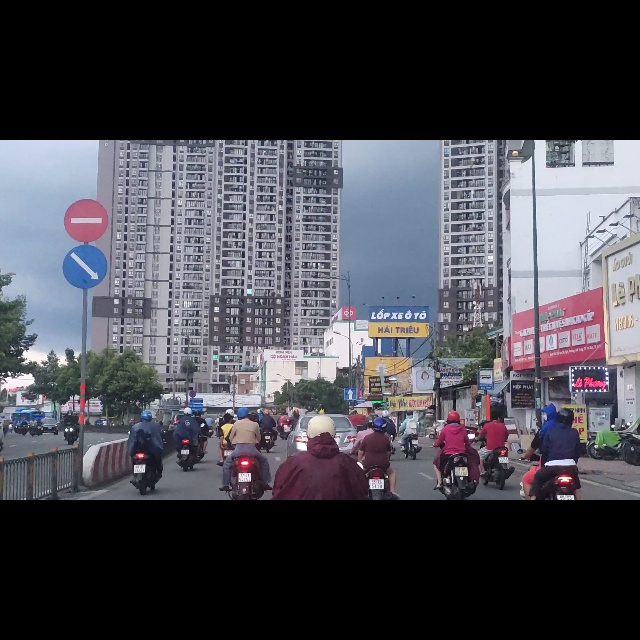bien_chi_dan: (62, 102, 110, 185), (61, 185, 109, 267), (478, 408, 494, 445), (344, 440, 357, 462)
